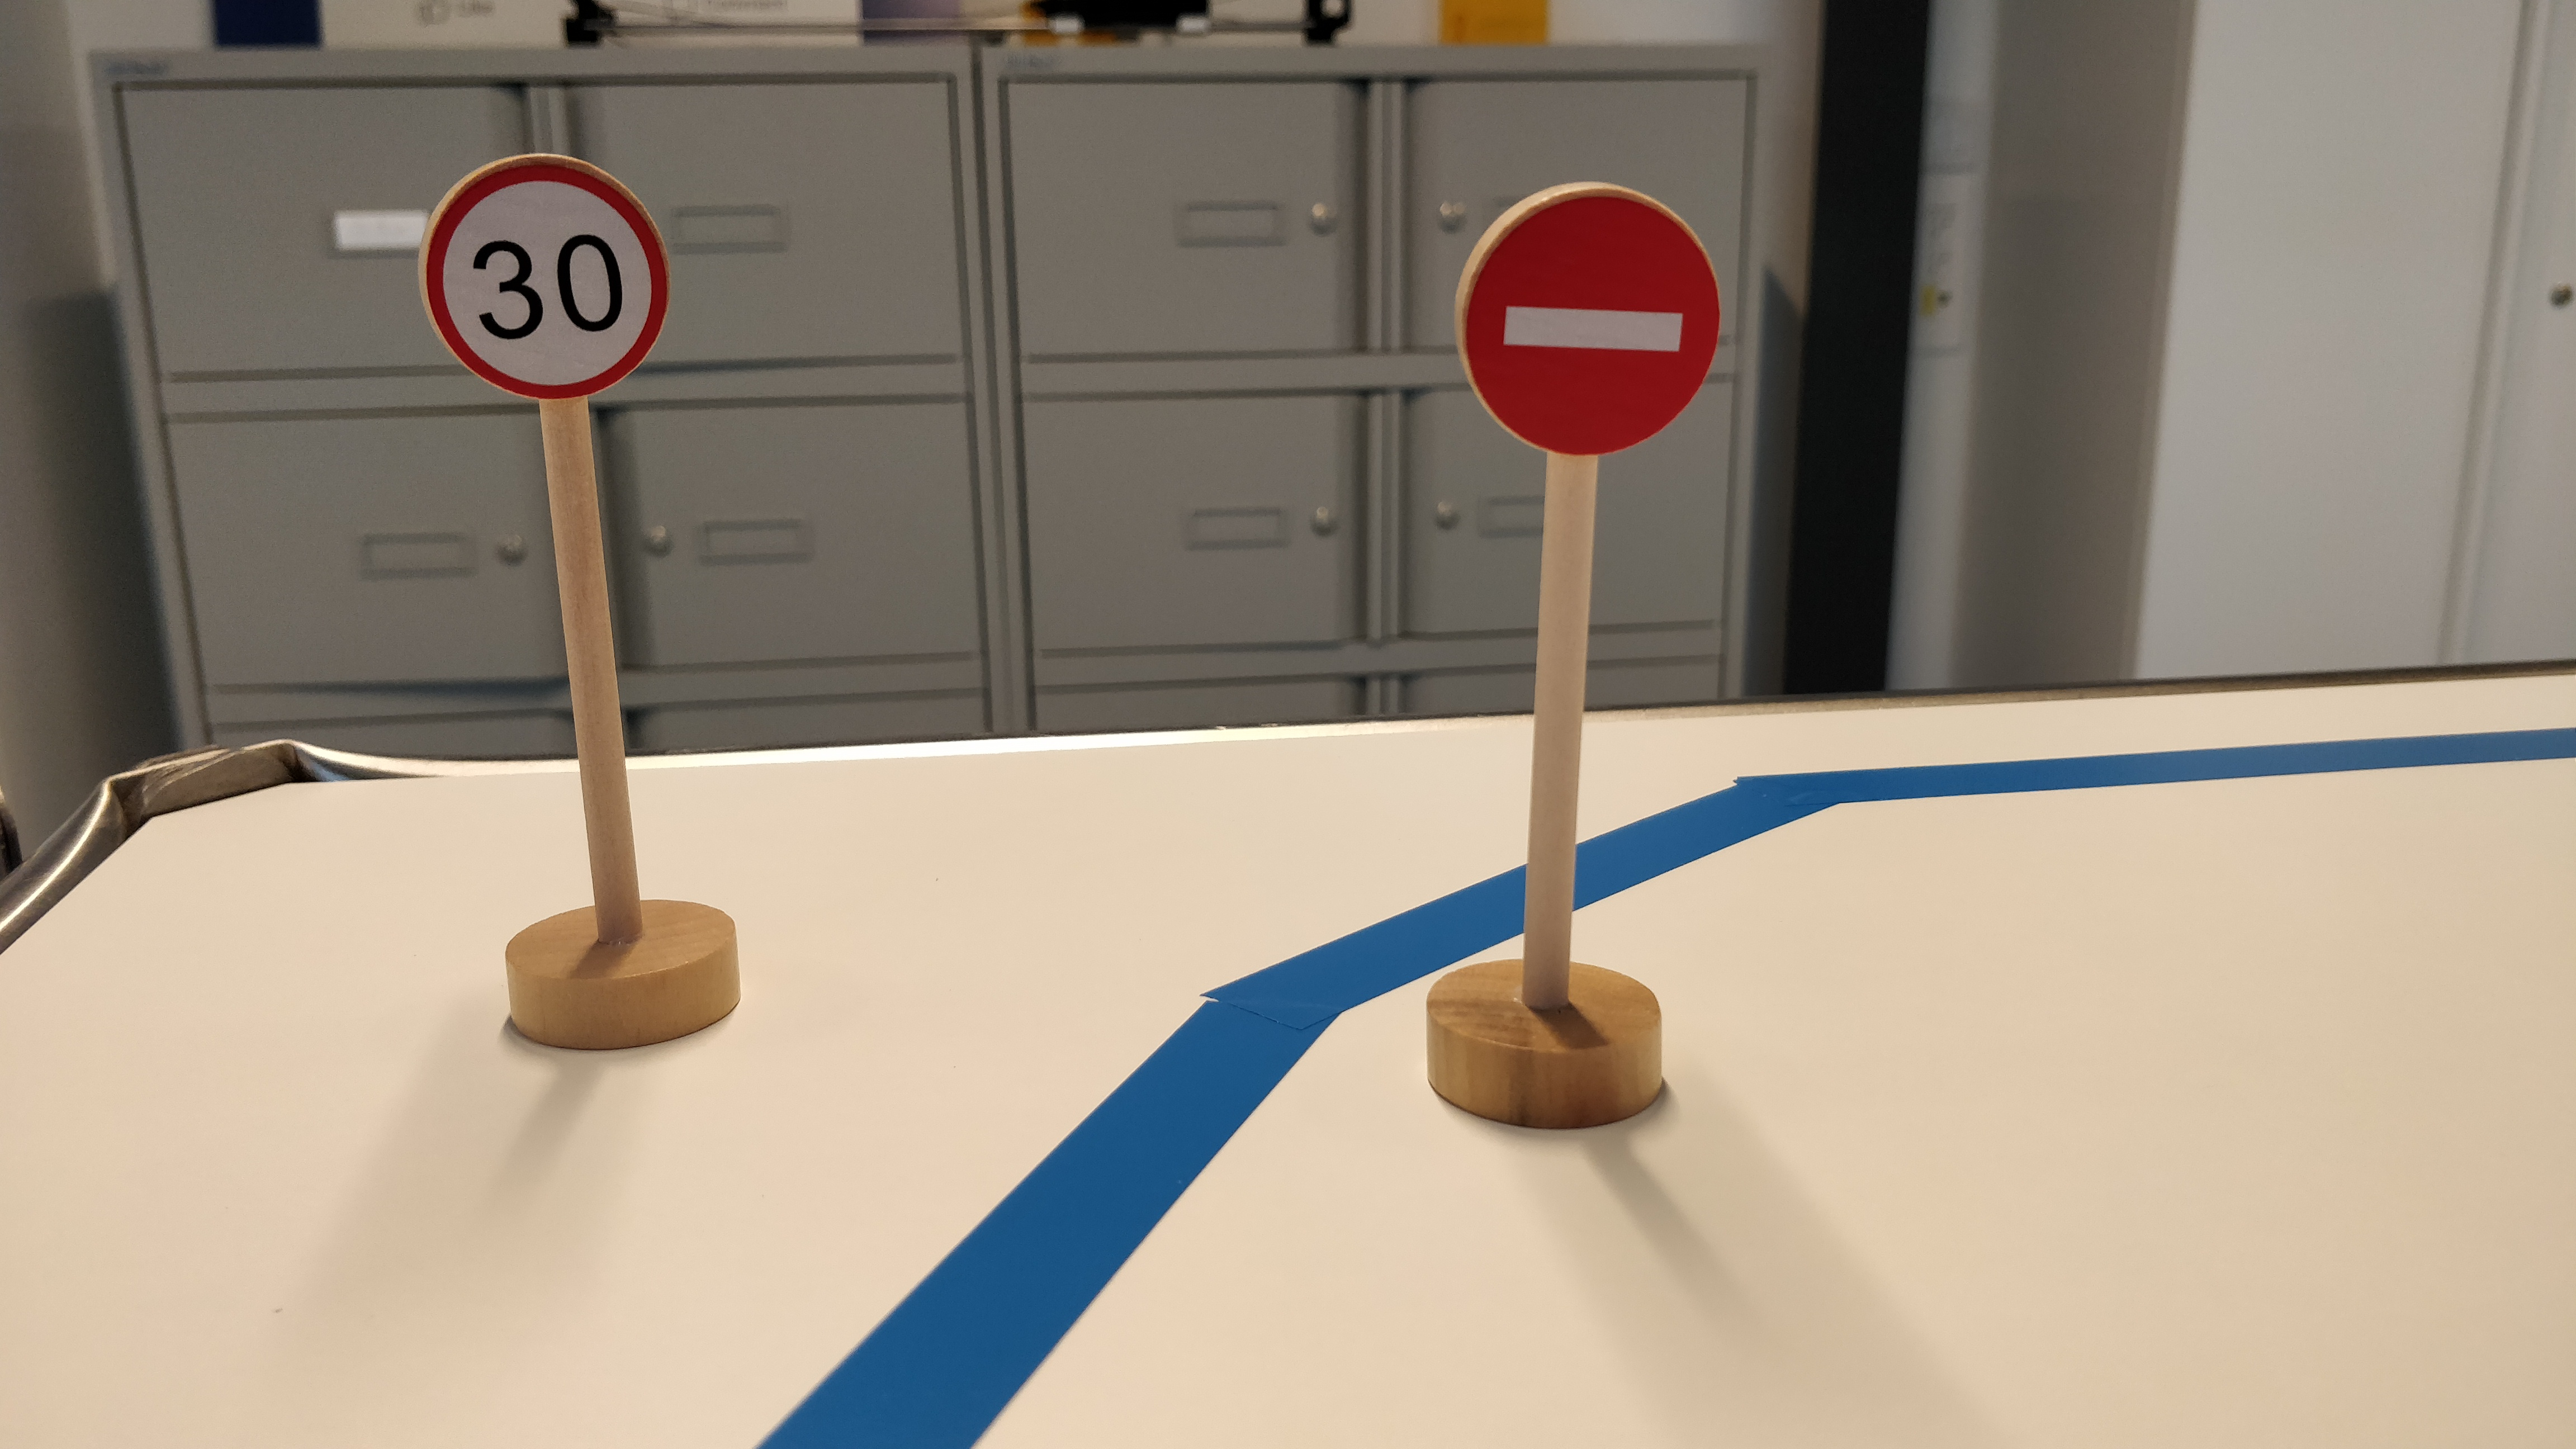Prohibition Sign: (1445, 177, 1725, 459)
Speed Limit 30: (414, 146, 675, 408)
